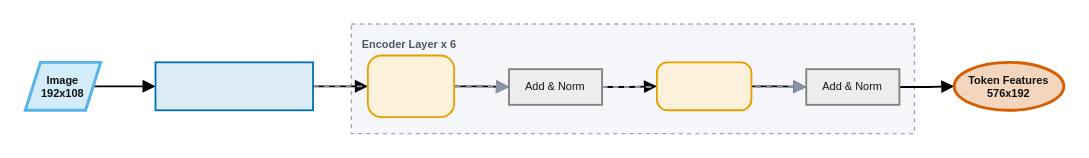
Some shapes in this 1089 by 158 pixel diagram are drawn without their labels. Each missing label, with the centre of its shape:
FFN 192-768-192: point (703, 85)
Multi-Head Attention 3 heads: point (410, 85)
Patch Embed + Pos. Enc. 6x6, 576 tokens: point (233, 85)
